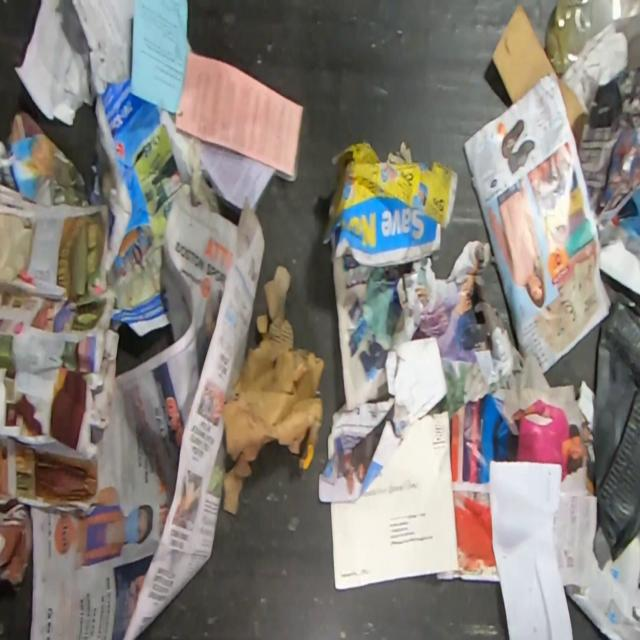cardboard: (223, 266, 324, 514), (490, 6, 586, 153), (616, 187, 639, 243)
rigid_plastic: (591, 297, 639, 561)
soft_plastic: (545, 0, 640, 74)
